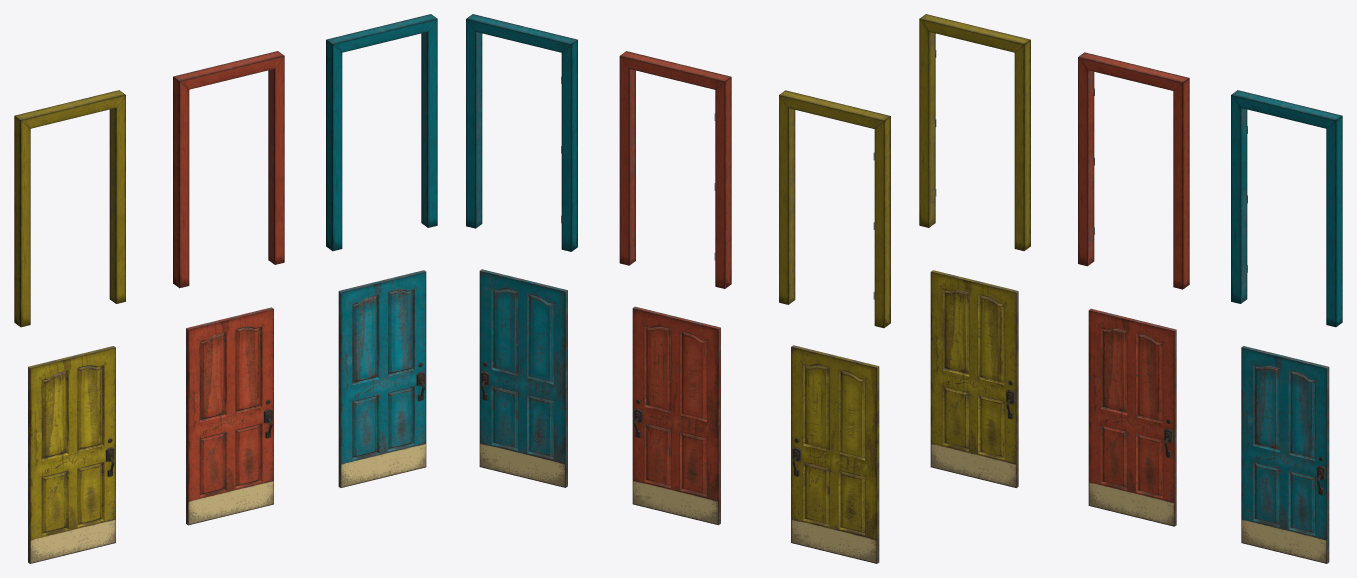
Rendered from WoodenDoors.fbx.
The picture shows the model from 3 angles, left to right: view 1: azimuth 30°, elevation 25°; view 2: azimuth 150°, elevation 25°; view 3: azimuth 330°, elevation 25°; orthographic projection.
Visible parts, largest first — view 1: SM_Door_E_Blue, SM_Door_E_Red, SM_Door_E_Yellow, SM_Frame_Wood_BRed, SM_Frame_Wood_ABlue, SM_Frame_Wood_AYellow; view 2: SM_Door_E_Red, SM_Door_E_Yellow, SM_Door_E_Blue, SM_Frame_Wood_BRed, SM_Frame_Wood_AYellow, SM_Frame_Wood_ABlue; view 3: SM_Door_E_Blue, SM_Door_E_Red, SM_Door_E_Yellow, SM_Frame_Wood_AYellow, SM_Frame_Wood_BRed, SM_Frame_Wood_ABlue.
Part boxes in pixels (left/top/right/bottom): SM_Door_E_Blue: left=338, top=270, right=426, bottom=487; SM_Door_E_Red: left=186, top=307, right=273, bottom=525; SM_Door_E_Yellow: left=28, top=346, right=115, bottom=563; SM_Frame_Wood_BRed: left=173, top=51, right=284, bottom=288; SM_Frame_Wood_ABlue: left=326, top=14, right=437, bottom=251; SM_Frame_Wood_AYellow: left=14, top=90, right=125, bottom=327; SM_Door_E_Red: left=632, top=306, right=720, bottom=525; SM_Door_E_Yellow: left=791, top=345, right=879, bottom=563; SM_Door_E_Blue: left=479, top=269, right=567, bottom=487; SM_Frame_Wood_BRed: left=619, top=51, right=731, bottom=288; SM_Frame_Wood_AYellow: left=779, top=90, right=890, bottom=328; SM_Frame_Wood_ABlue: left=466, top=14, right=577, bottom=251; SM_Door_E_Blue: left=1241, top=346, right=1329, bottom=563; SM_Door_E_Red: left=1088, top=308, right=1176, bottom=526; SM_Door_E_Yellow: left=930, top=270, right=1018, bottom=487; SM_Frame_Wood_AYellow: left=919, top=14, right=1030, bottom=250; SM_Frame_Wood_BRed: left=1078, top=52, right=1189, bottom=289; SM_Frame_Wood_ABlue: left=1231, top=90, right=1342, bottom=327.
Size of the model in its own units: 544 by 558 by 21.14.
